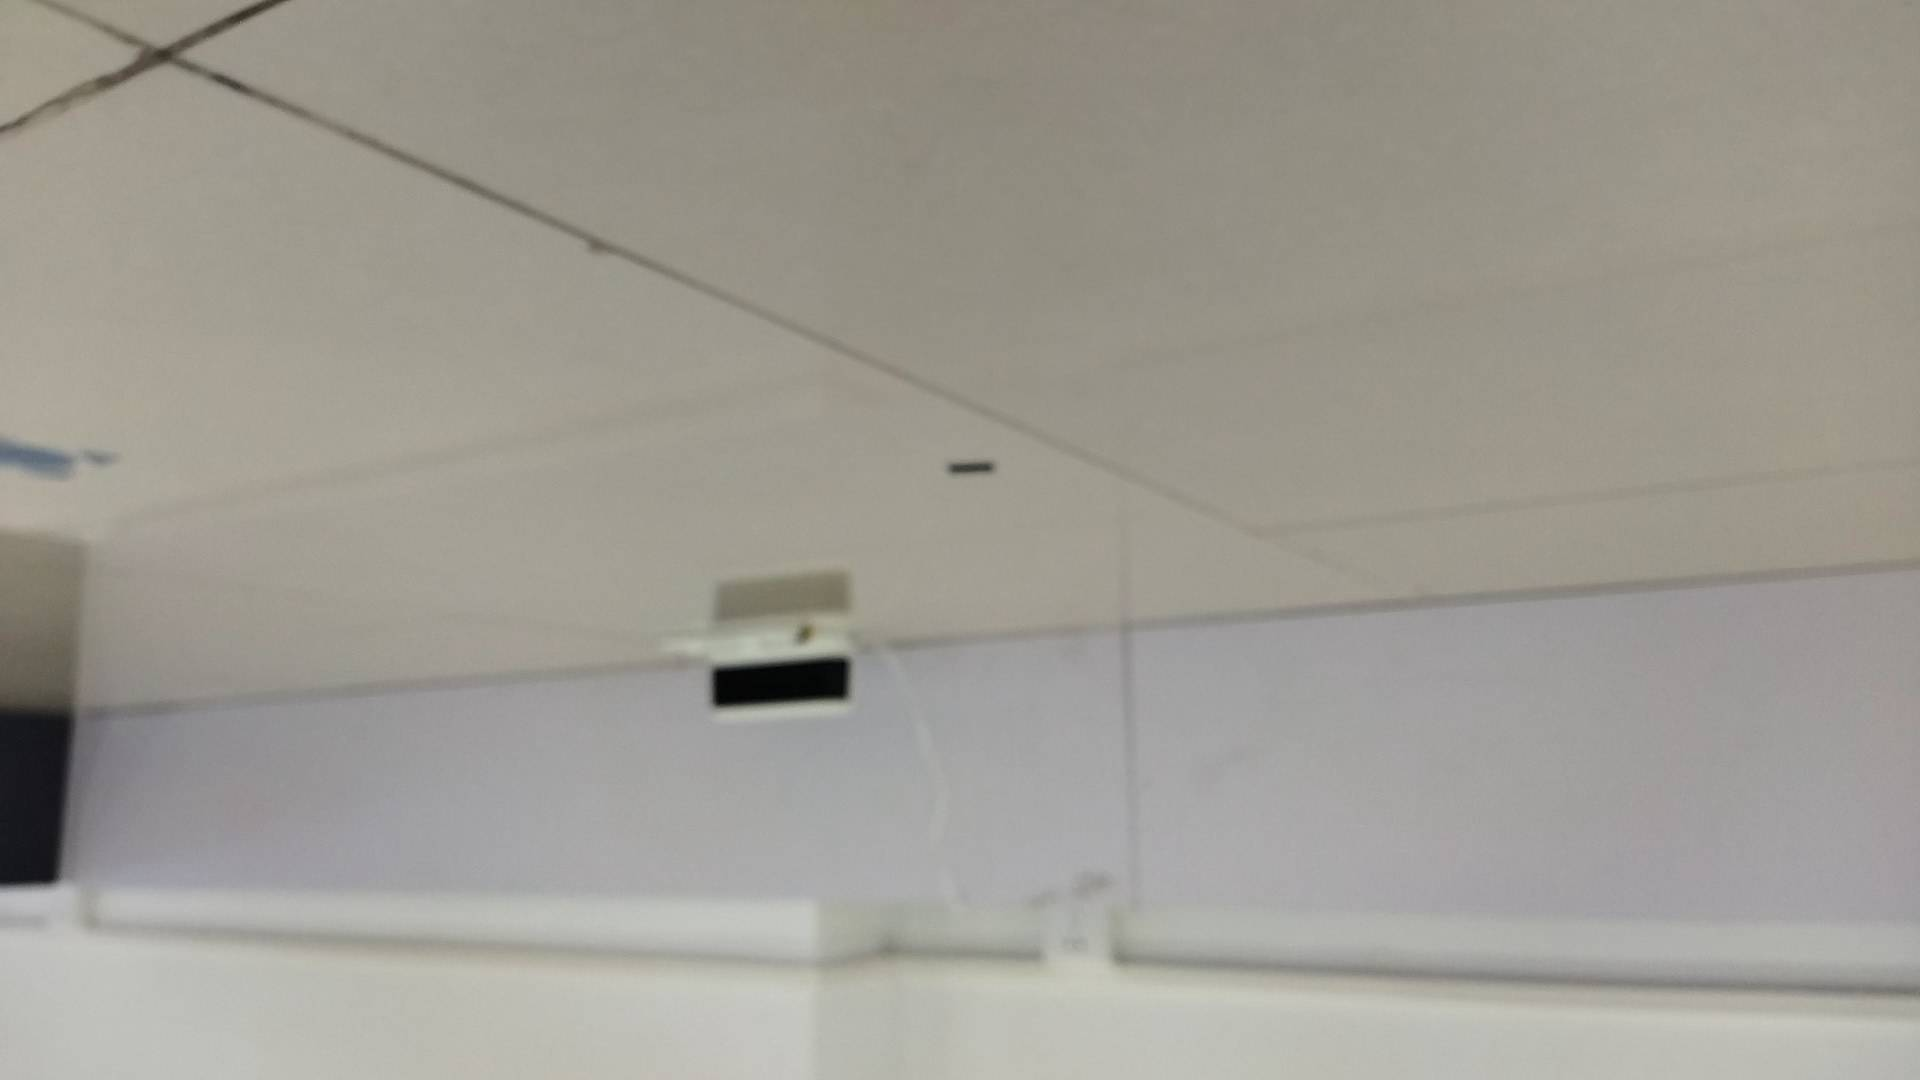recharge seat: (665, 609, 872, 724)
